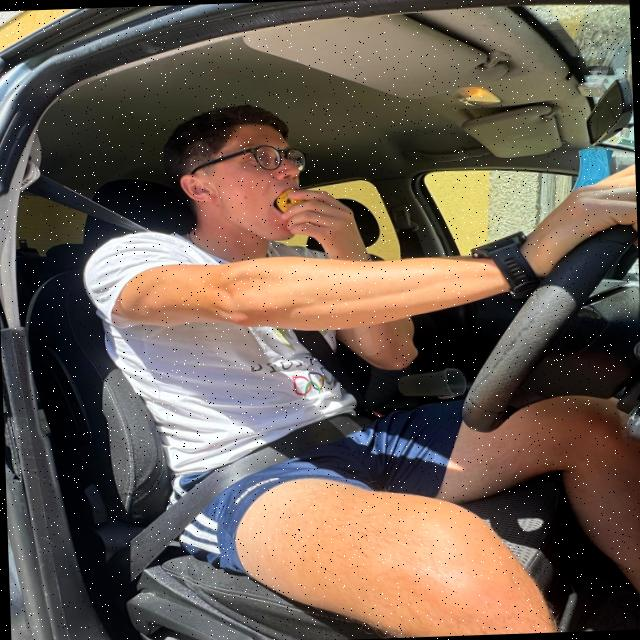Eating: (244, 170, 326, 234)
Seatbelt: (0, 150, 409, 579)
